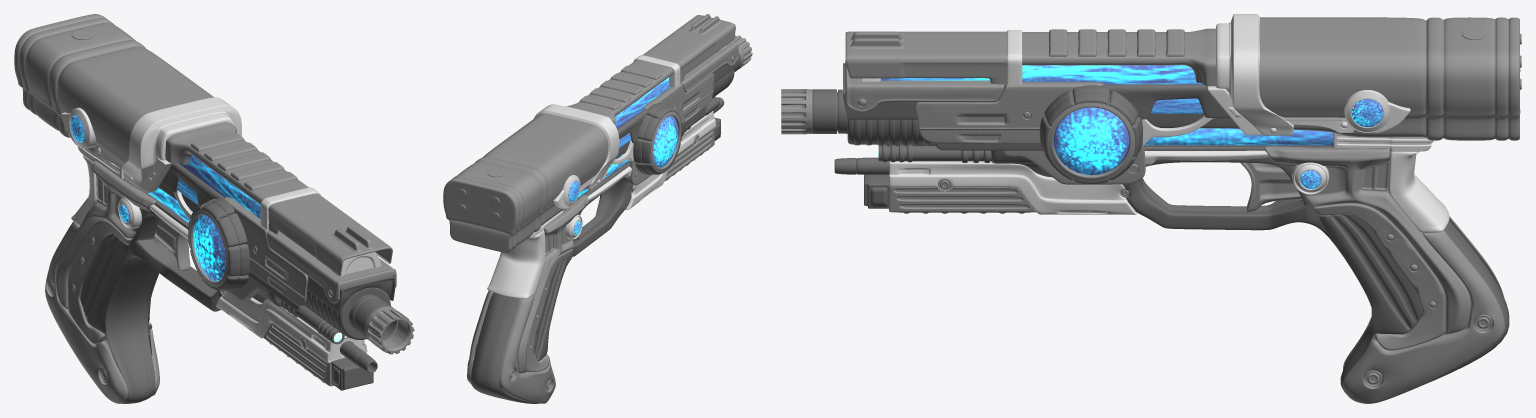
Rendered from Portal_Gun.fbx.
3 views of the same model, side by side, from view 1: azimuth 30°, elevation 25°; view 2: azimuth 150°, elevation 25°; view 3: azimuth 270°, elevation 25° (orthographic). The views are drawn at different scales.
Visible parts, largest first — view 1: Portal_Gun; view 2: Portal_Gun; view 3: Portal_Gun.
Boxes of the visible parts, x1,y1,x2,y2 form: Portal_Gun: (14, 14, 414, 403); Portal_Gun: (443, 14, 752, 403); Portal_Gun: (781, 14, 1521, 403).
Size of the model in its own units: 56.14 by 160 by 295.
